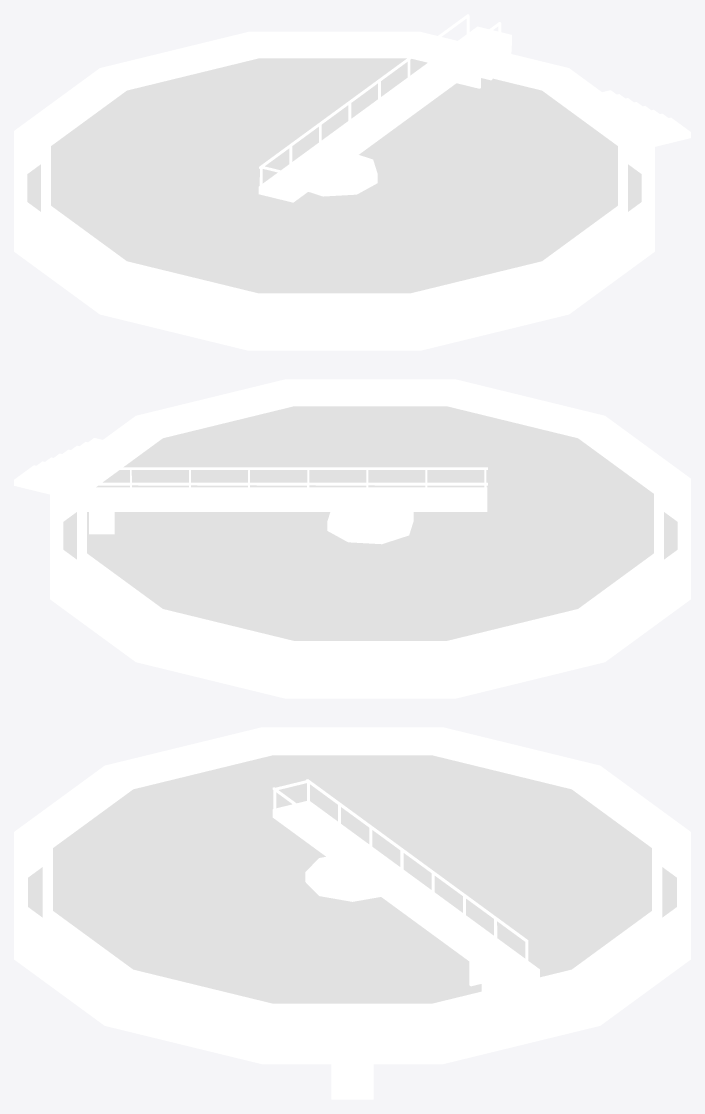
The model's file is sewage-treatment-pool.glb.
3 views of the same model, one above another, from view 1: azimuth 30°, elevation 25°; view 2: azimuth 150°, elevation 25°; view 3: azimuth 270°, elevation 25° (orthographic). The views are drawn at different scales.
Visible parts, largest first — view 1: sewage-treatment-pool; view 2: sewage-treatment-pool; view 3: sewage-treatment-pool.
Boxes of the visible parts, x1,y1,x2,y2 form: sewage-treatment-pool: (14, 14, 690, 350); sewage-treatment-pool: (14, 379, 690, 698); sewage-treatment-pool: (14, 727, 690, 1099).
Bounding box in the file's own units: 21.72 × 2.91 × 19.32.
2 materials, 2 textured.
